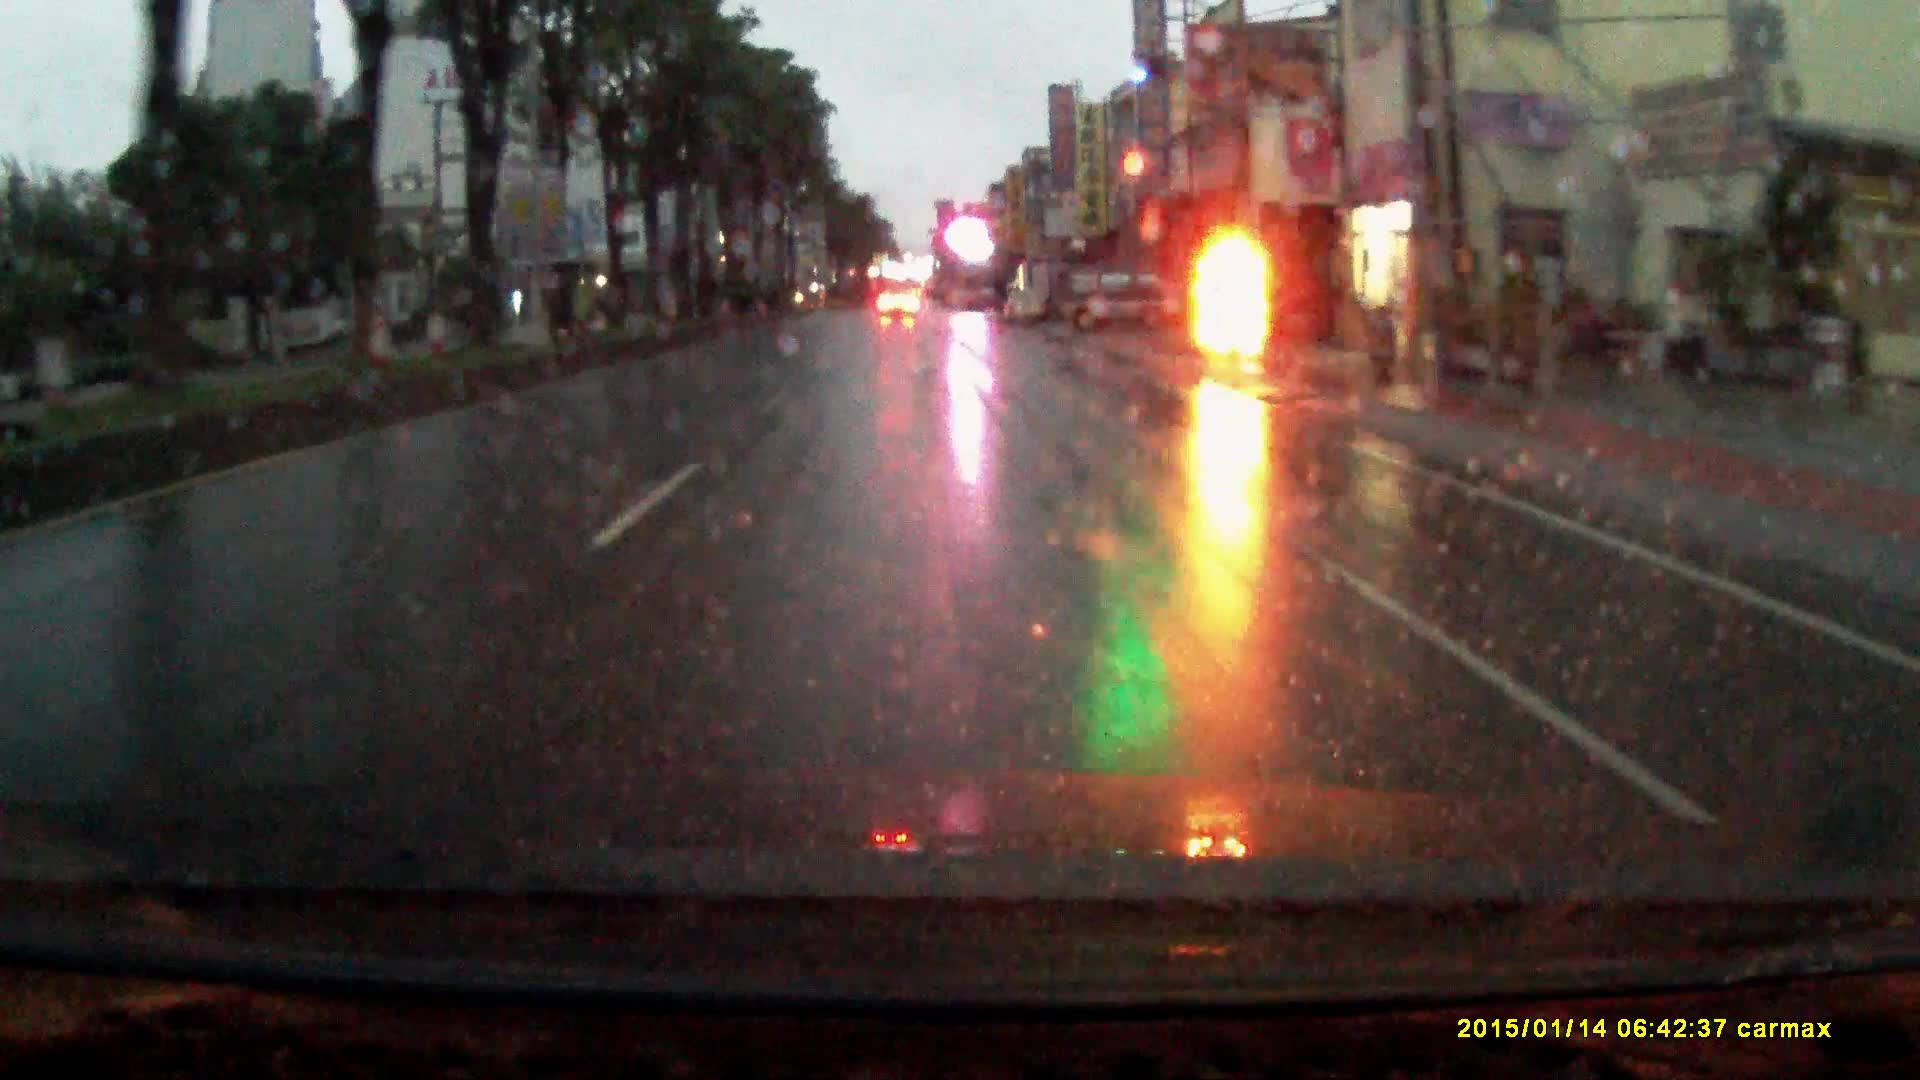vehicle: (1058, 266, 1188, 336), (1004, 290, 1048, 324), (878, 284, 920, 316)
